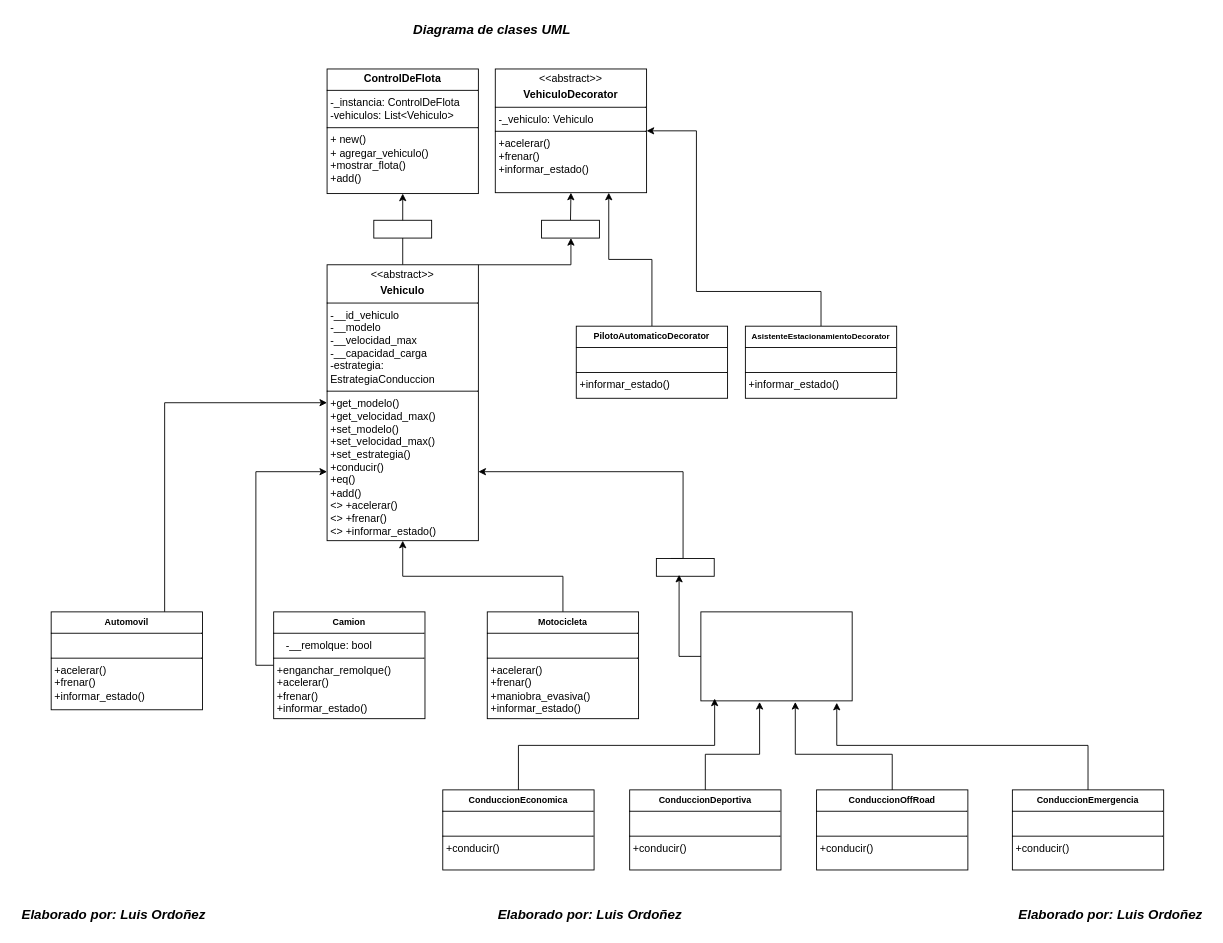
Some shapes in this 1223 by 943 pixel diagram are drawn without their labels. Here are the shapes that lost their labels. From the top down, the centre of each, then its label:
At [402,228]: "vehiculos".
At [570,228]: "_vehiculo".
At [684,567]: "estrategia".
At [776,656]: "<<interface>> EstrategiaConduccion +conducir()".
